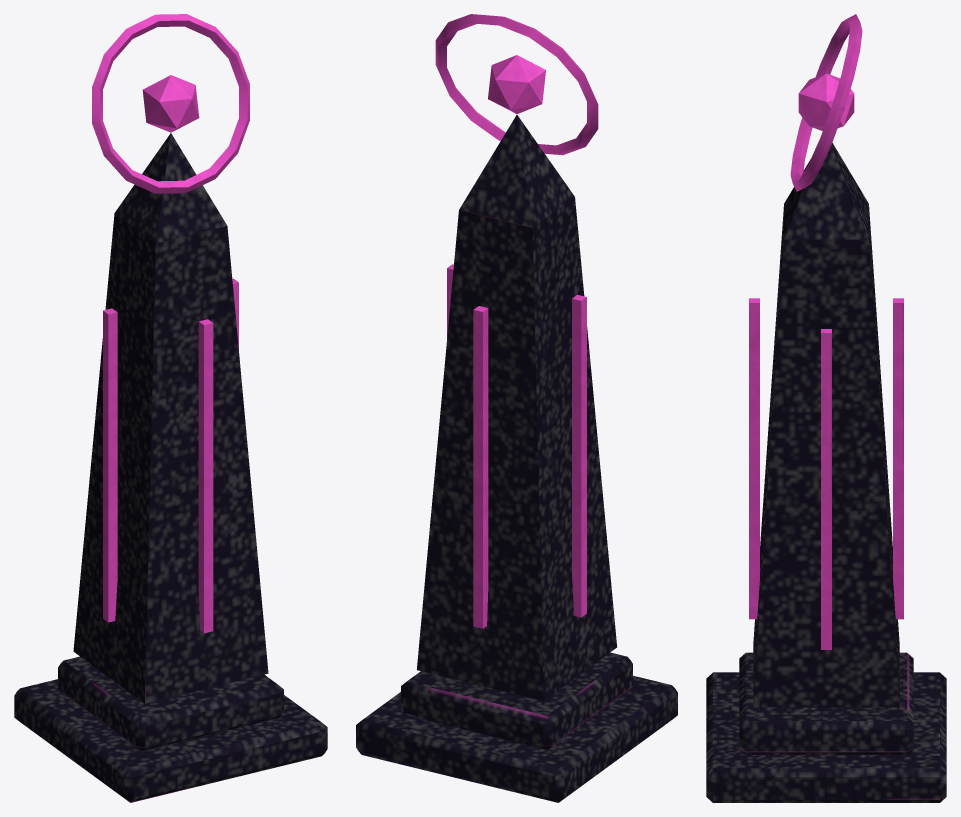
The model's file is void_obelisk.fbx.
3 views of the same model, side by side, from view 1: azimuth 30°, elevation 25°; view 2: azimuth 150°, elevation 25°; view 3: azimuth 270°, elevation 25° (orthographic). The views are drawn at different scales.
Visible parts, largest first — view 1: Void_obelisk; view 2: Void_obelisk; view 3: Void_obelisk.
Part boxes in pixels (x1=…): Void_obelisk: x1=14, y1=14, x2=327, y2=802; Void_obelisk: x1=356, y1=14, x2=677, y2=802; Void_obelisk: x1=706, y1=14, x2=946, y2=802.
Size of the model in its own units: 2.2 by 7.4 by 2.2.
Materials: 1 (1 with a texture image).
